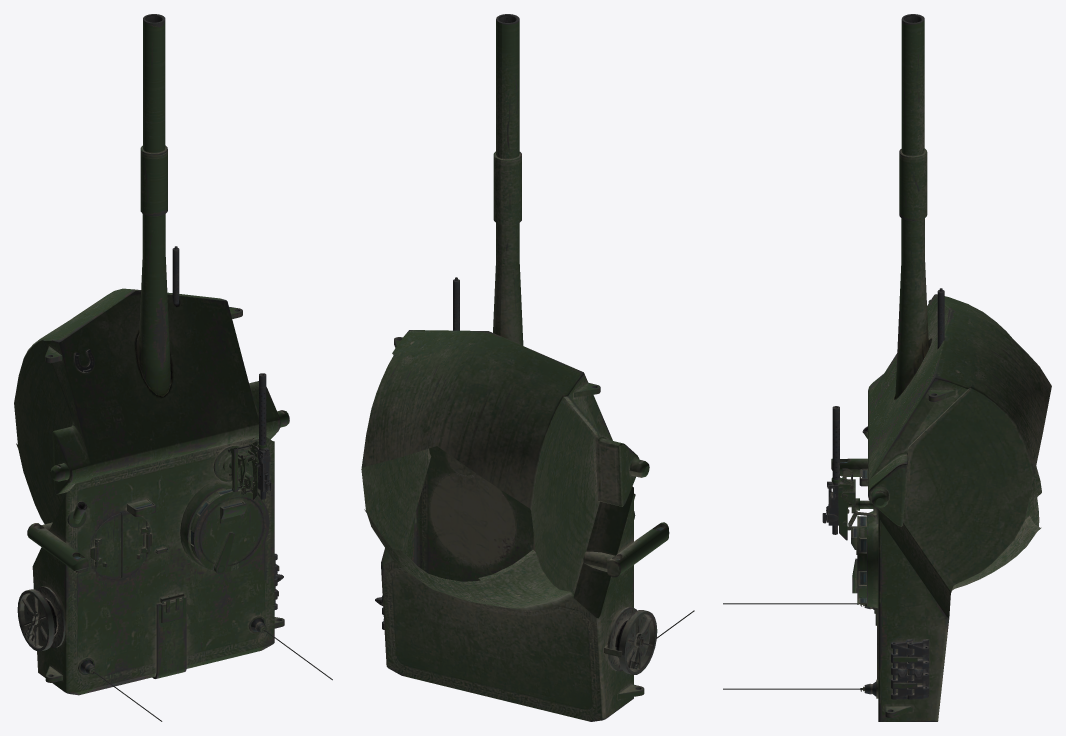
Rendered from Gun_01.glb.
3 renders of one model, left to right at view 1: azimuth 30°, elevation 25°; view 2: azimuth 150°, elevation 25°; view 3: azimuth 270°, elevation 25°, orthographic. The views are drawn at different scales.
Visible parts, largest first — view 1: set_0_group_0; view 2: set_0_group_0; view 3: set_0_group_0.
Part boxes in pixels (left/top/right/bottom): set_0_group_0: left=14, top=14, right=332, bottom=721; set_0_group_0: left=361, top=14, right=694, bottom=721; set_0_group_0: left=723, top=14, right=1051, bottom=721.
Bounding box in the file's own units: 2.14 × 5.3 × 2.39.
1 material, 1 textured.
